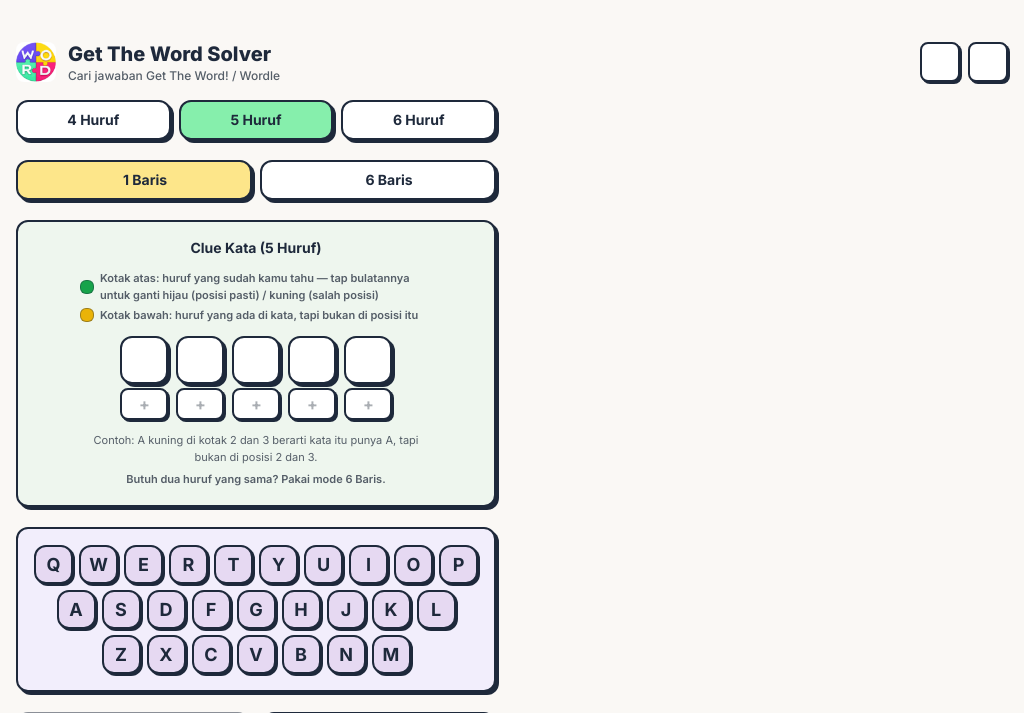
Test: board mode › renders one row per guess for the 4-letter level
Click the button "4 Huruf". click: [93, 120]
box: [16,100,171,140]
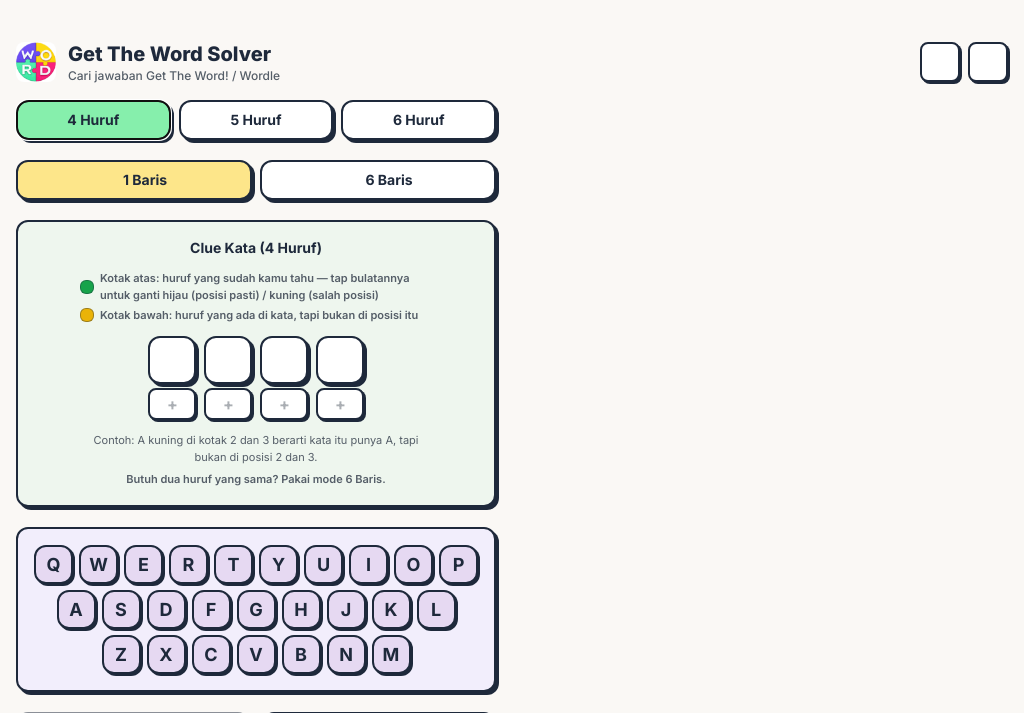
Click the button "6 Baris". click: [378, 180]
box: [260,160,496,200]
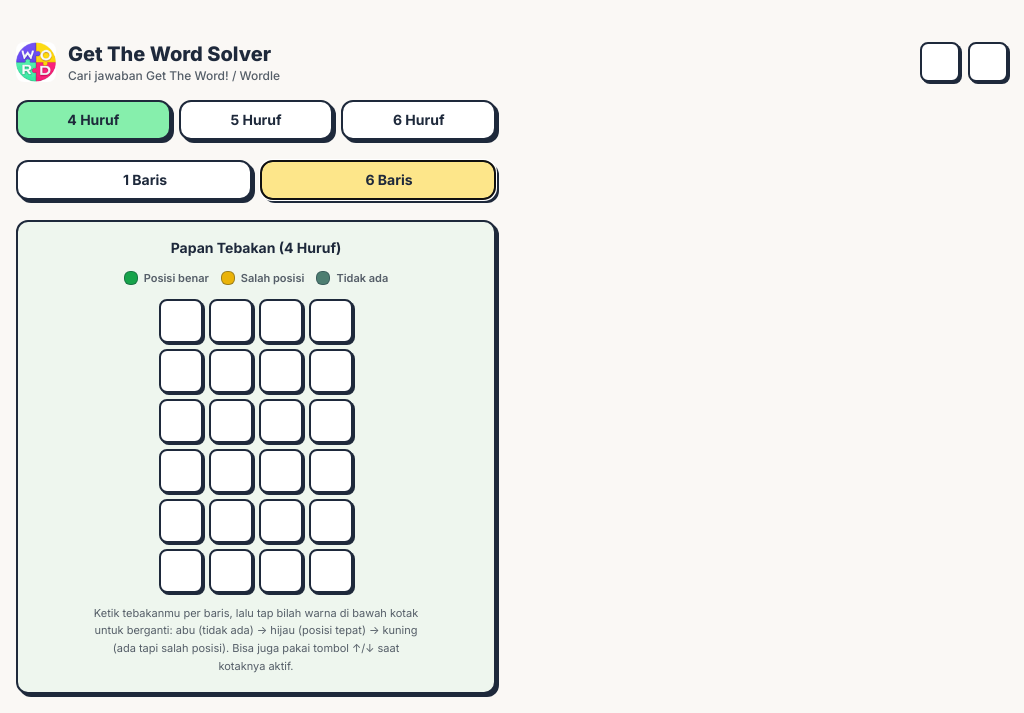
Now the number of fields named "Baris 1, kotak 1" is 24
